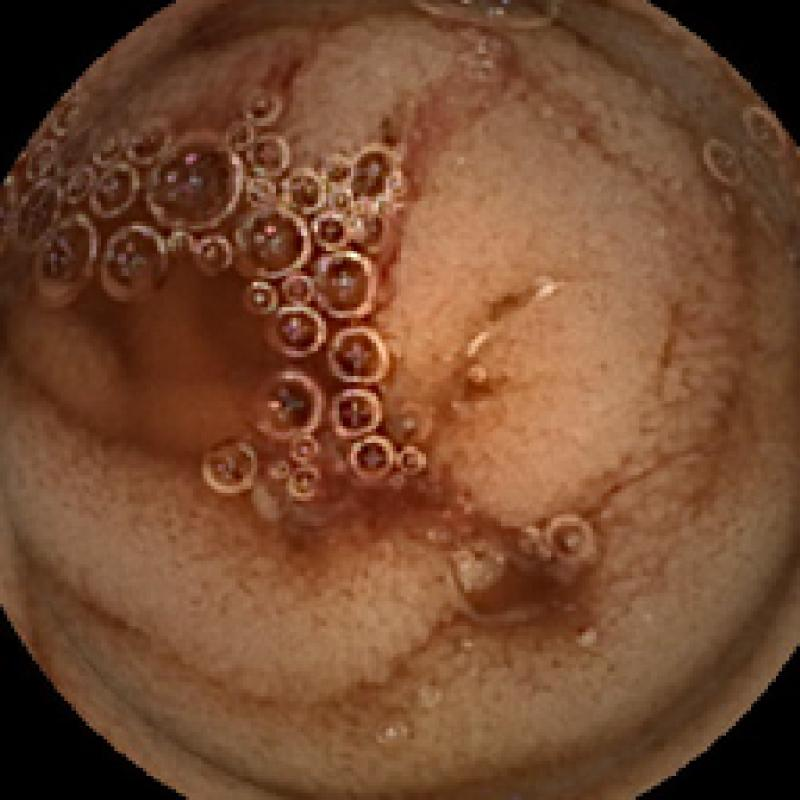bleeding: (243, 107, 403, 525)
